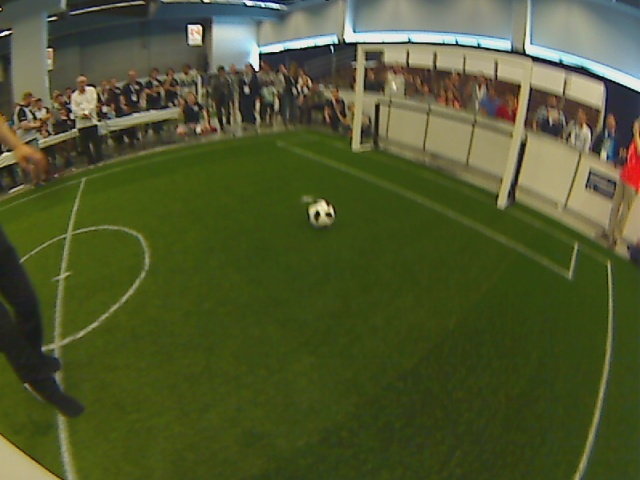ball: (304, 198, 336, 229)
